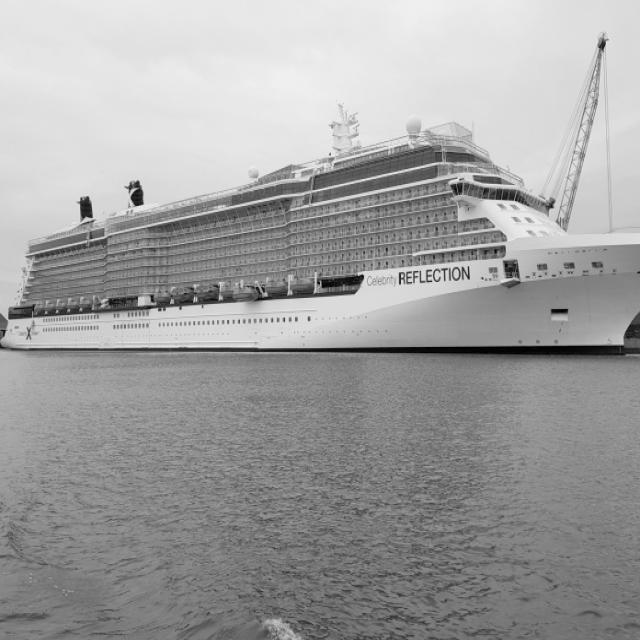cruises: (1, 105, 640, 363)
